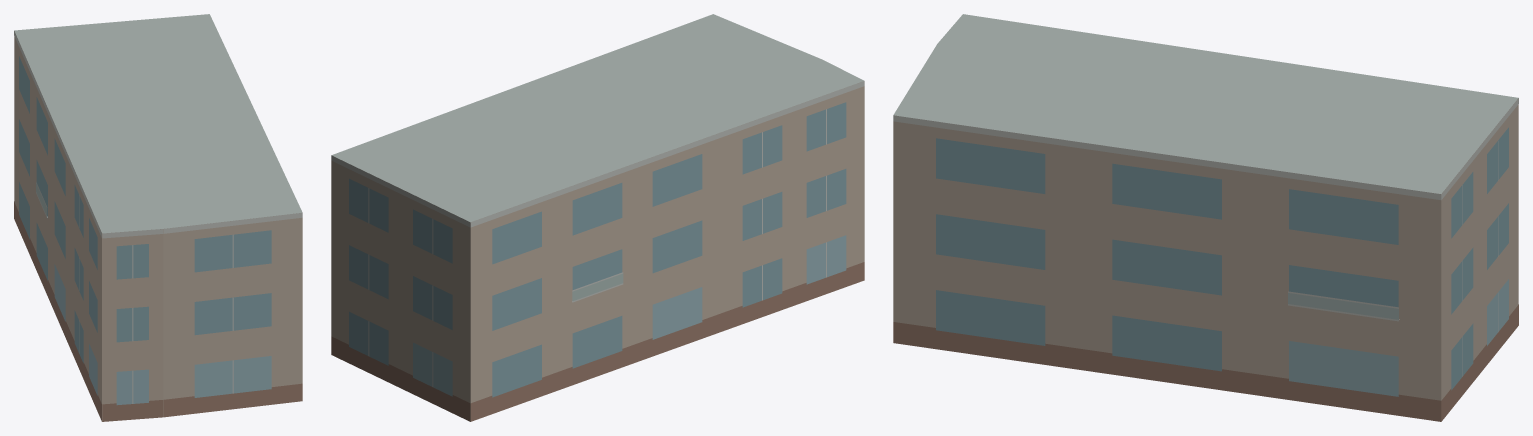
File: survey-upis-32879360.glb
The picture shows the model from 3 angles, left to right: view 1: azimuth 30°, elevation 25°; view 2: azimuth 150°, elevation 25°; view 3: azimuth 270°, elevation 25°; orthographic projection. The views are drawn at different scales.
Parts seen in each view (by area): view 1: survey-upis-32879360.tmp; view 2: survey-upis-32879360.tmp; view 3: survey-upis-32879360.tmp.
Boxes of the visible parts, left/top/right/bottom form: survey-upis-32879360.tmp: left=14, top=14, right=302, bottom=421; survey-upis-32879360.tmp: left=331, top=14, right=864, bottom=421; survey-upis-32879360.tmp: left=893, top=14, right=1518, bottom=421.
Size of the model in its own units: 15.54 by 9.15 by 22.79.
